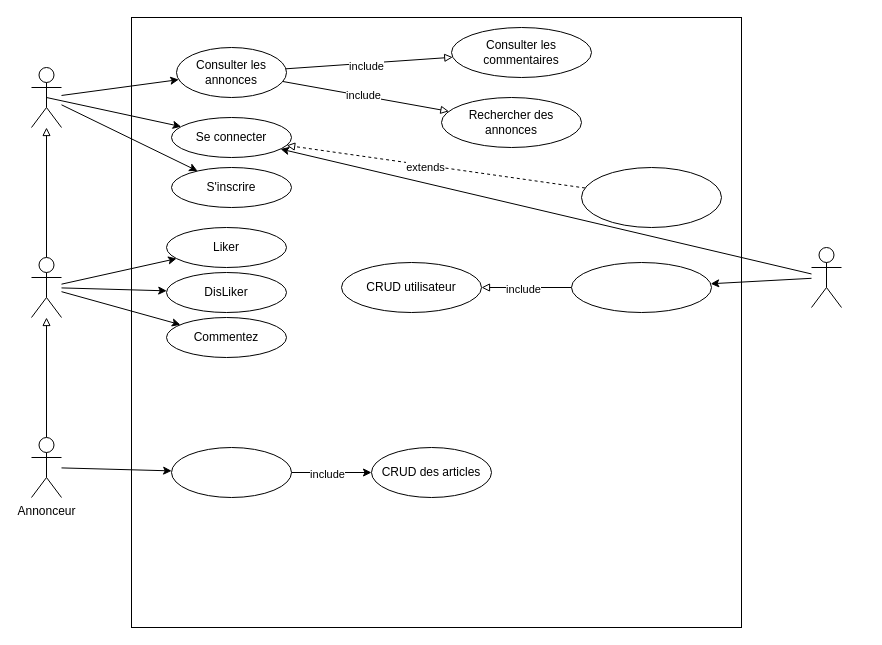
This 882x645 diagram has some shape labels left out. Each missing label, with the centre of its shape:
"Administrateur" belongs at (x=826, y=277).
"Gerer les utilisateurs" belongs at (x=641, y=287).
"Publier des articles" belongs at (x=231, y=472).
"Recuperation mot de passe" belongs at (x=651, y=197).
"Utilisateur" belongs at (x=46, y=287).
"Visiteur" belongs at (x=46, y=97).
